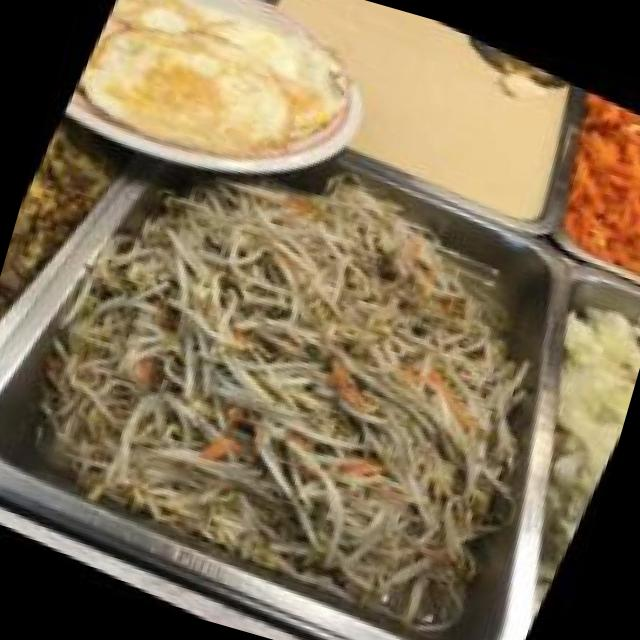carrot_eggs: (563, 103, 640, 281)
fried_eggs: (59, 0, 378, 215)
mung_bean_sprouts: (39, 155, 564, 639)
